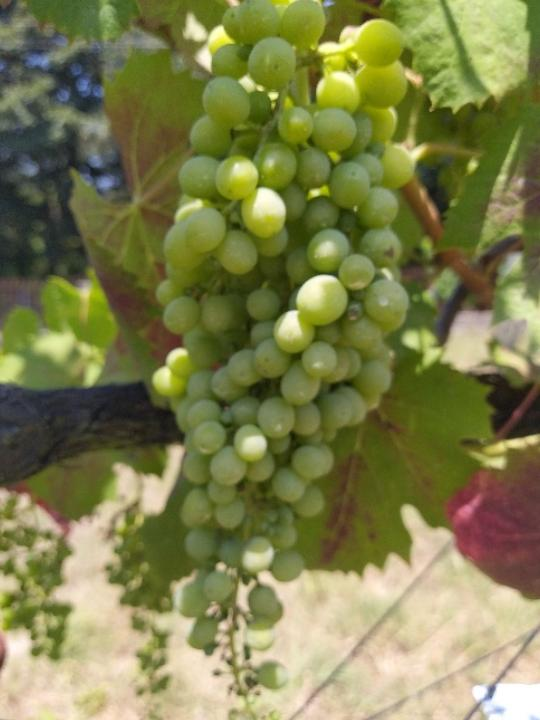grape: (149, 0, 417, 720)
